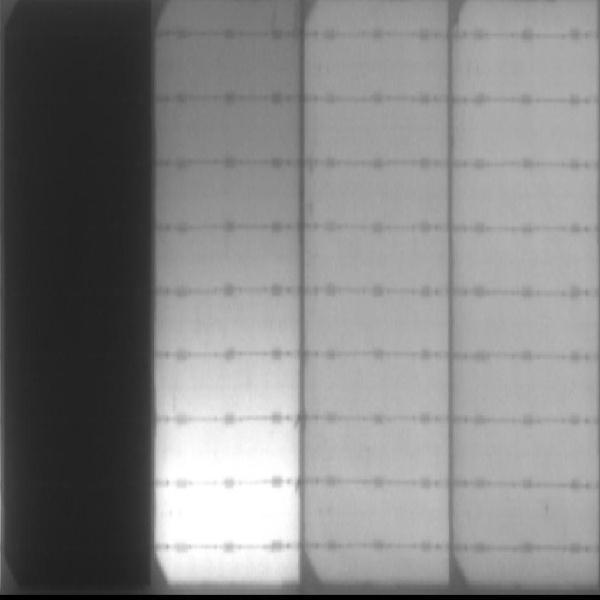hot_spot: (157, 492, 297, 540), (160, 444, 294, 478), (164, 551, 291, 575)
no_electricity: (1, 7, 151, 597)
